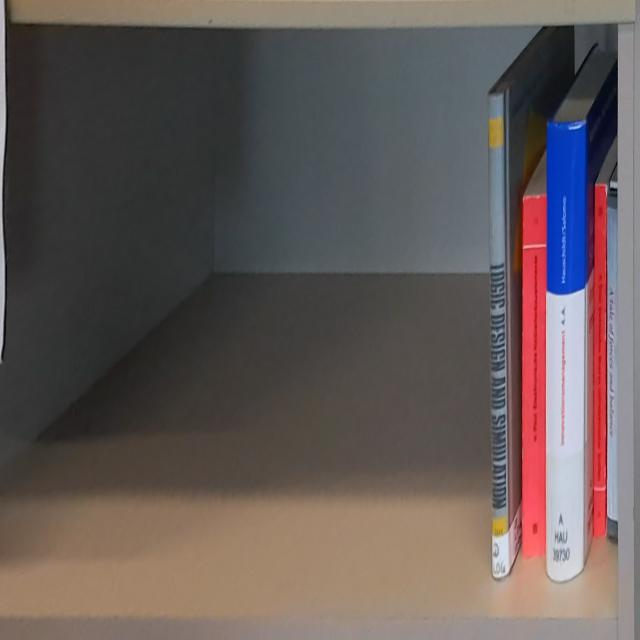Book Spine: (546, 122, 586, 586), (486, 94, 510, 582), (523, 195, 547, 557), (592, 184, 606, 539), (605, 194, 618, 547)
